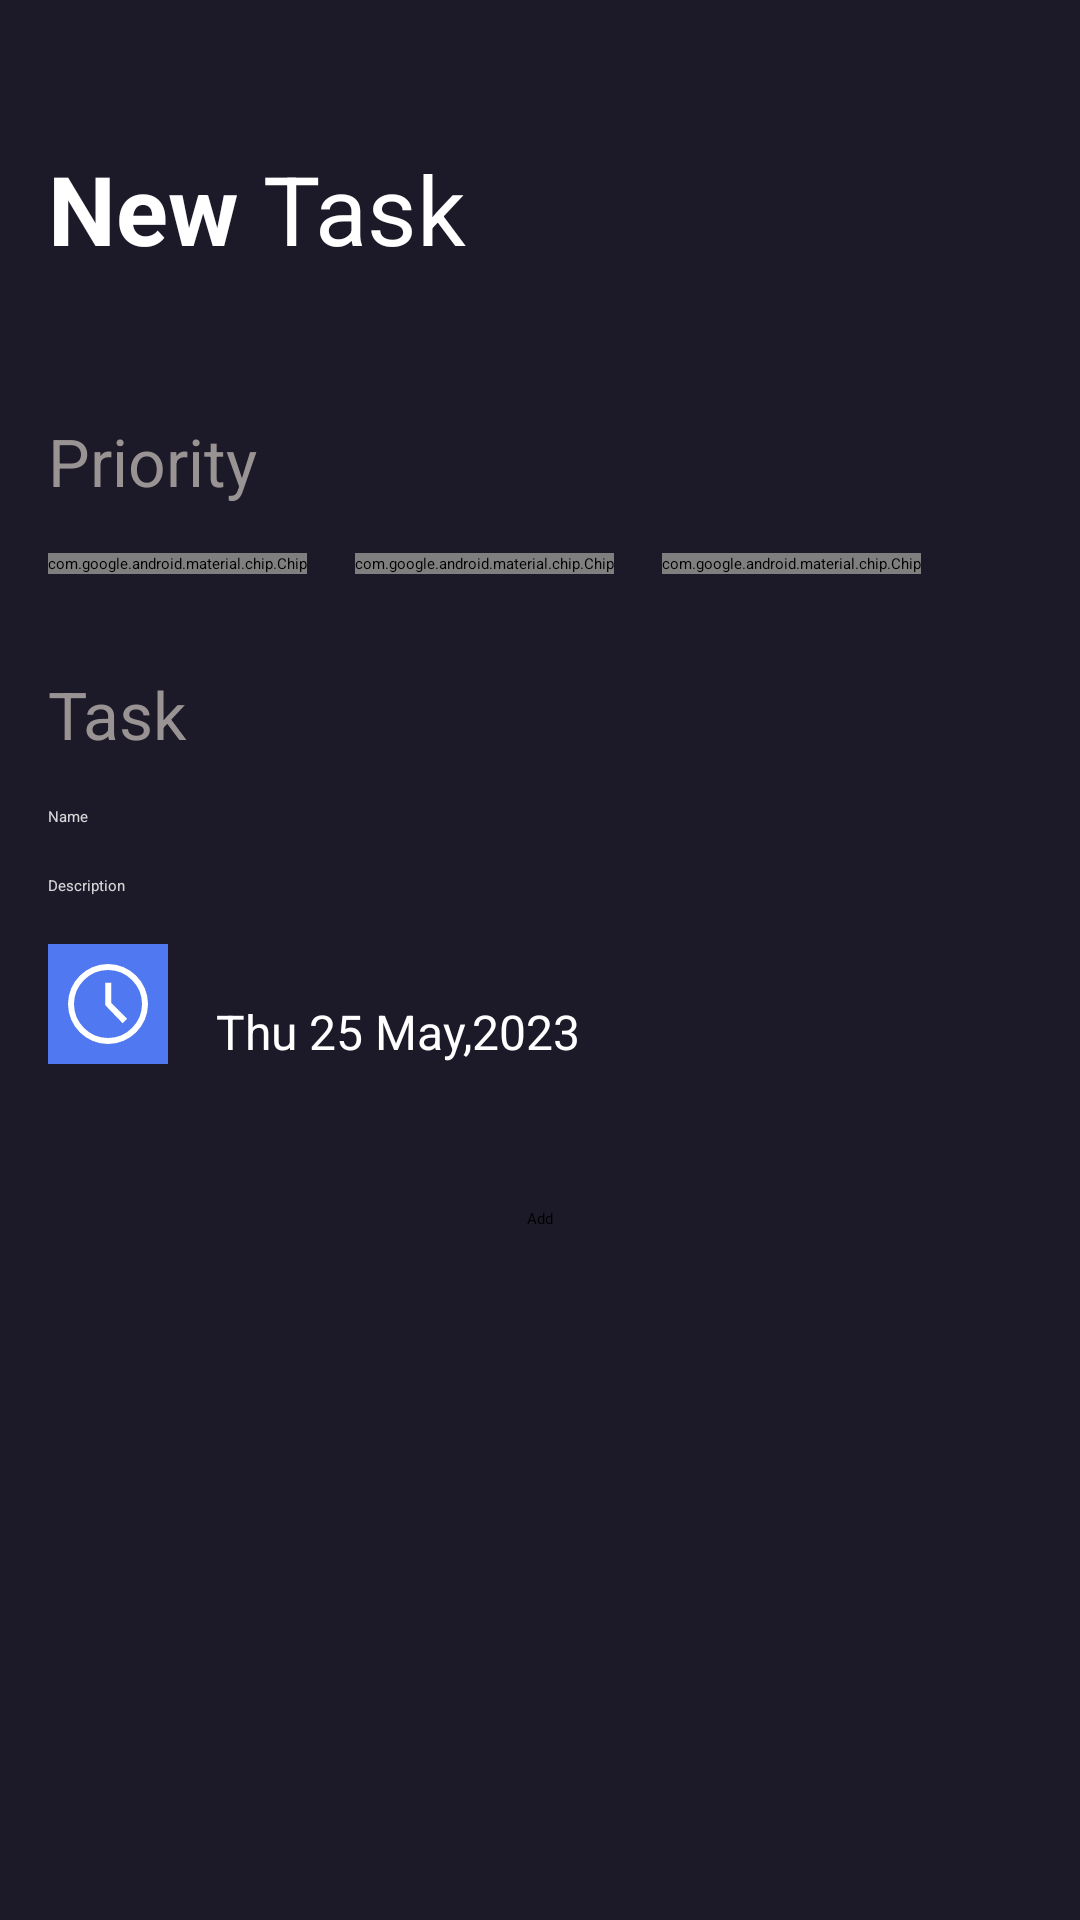

Named icons in this screenshot (1080×1920) and their bounding boxes, {"left": x1, "top": y1, "right": x2, "bottom": y2}:
clock: {"left": 48, "top": 944, "right": 168, "bottom": 1064}
